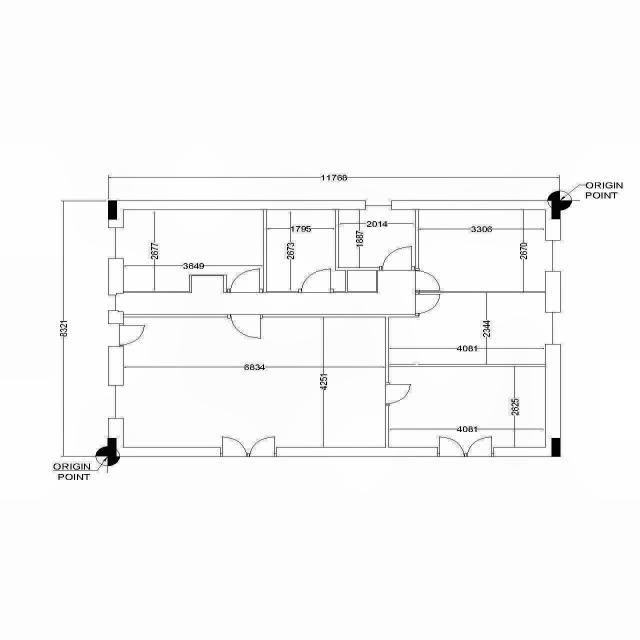Column: (108, 200, 117, 220), (552, 200, 560, 220), (552, 438, 560, 457), (108, 438, 116, 456)
Door: (222, 268, 265, 294), (298, 267, 334, 294), (226, 314, 264, 339), (378, 245, 414, 271), (116, 322, 146, 349), (414, 292, 442, 316), (384, 382, 412, 406), (415, 268, 441, 292)
Double-Door: (219, 435, 278, 458), (436, 436, 496, 458)
